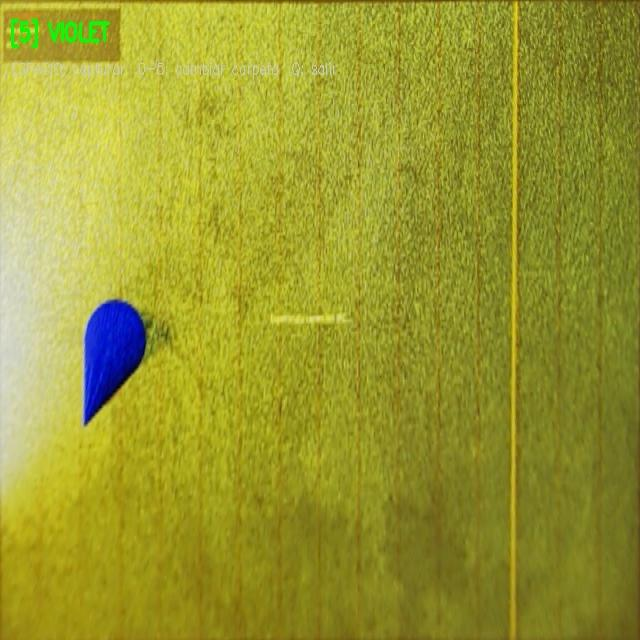violet: (83, 300, 145, 424)
